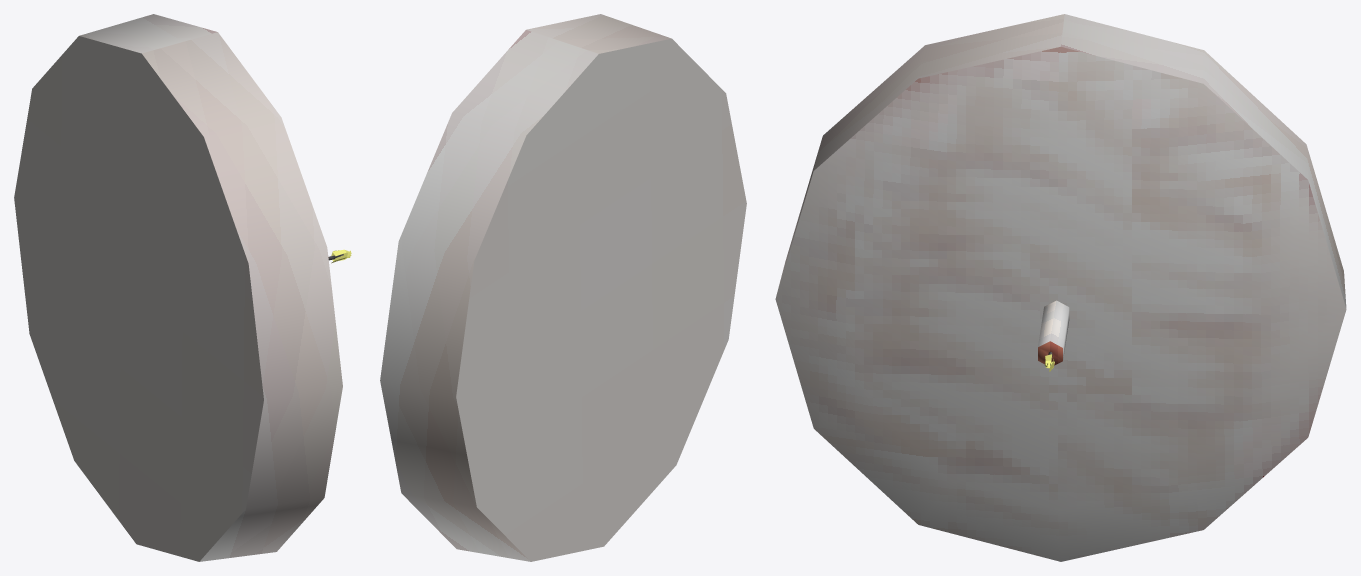
Rendered from H_CakeNoPan_Candle.fbx.
3 renders of one model, left to right at view 1: azimuth 30°, elevation 25°; view 2: azimuth 150°, elevation 25°; view 3: azimuth 270°, elevation 25°, orthographic. The views are drawn at different scales.
Visible parts, largest first — view 1: Cake001; view 2: Cake001; view 3: Cake001.
Boxes of the visible parts, x1,y1,x2,y2 form: Cake001: (14,14,351,561); Cake001: (380,14,746,561); Cake001: (775,14,1346,561).
Bounding box in the file's own units: 21.72 × 48.57 × 48.53.
